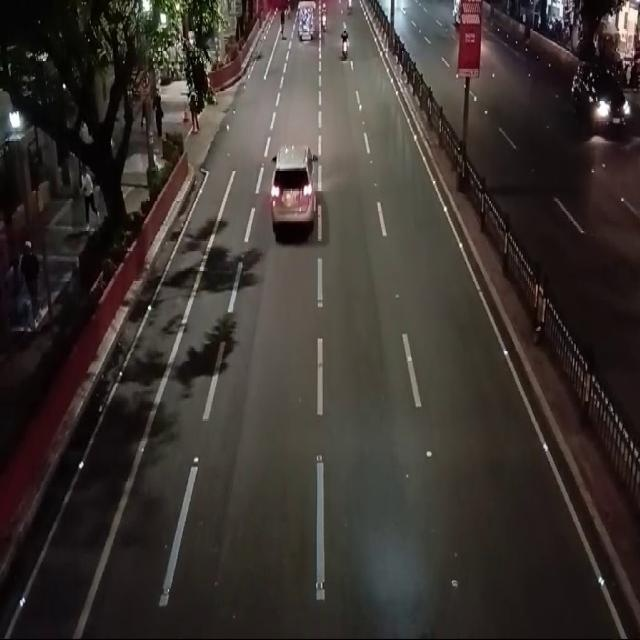car: (264, 138, 324, 244), (562, 61, 630, 140)
jeepney: (296, 0, 315, 46)
motorcycle: (337, 23, 350, 66)
